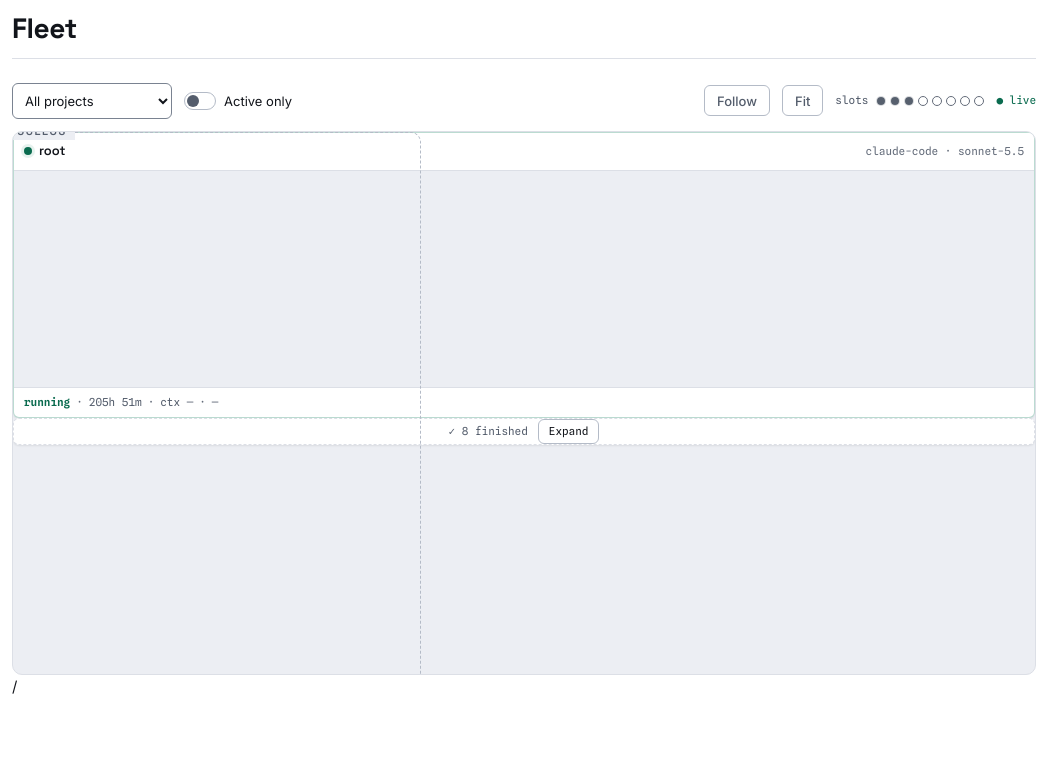
Test: Fleet › folds more than six done children into a group that expands
The width and height of the screenshot is (1048, 780).
Expected: the text "✓ 8 finished" is shown, x1=449 y1=423 x2=528 y2=440
Expected: the element "job 0" is not shown
Click the button with aria-label "Expand the finished nodes under root" at (569, 431), box x1=538 y1=419 x2=599 y2=444
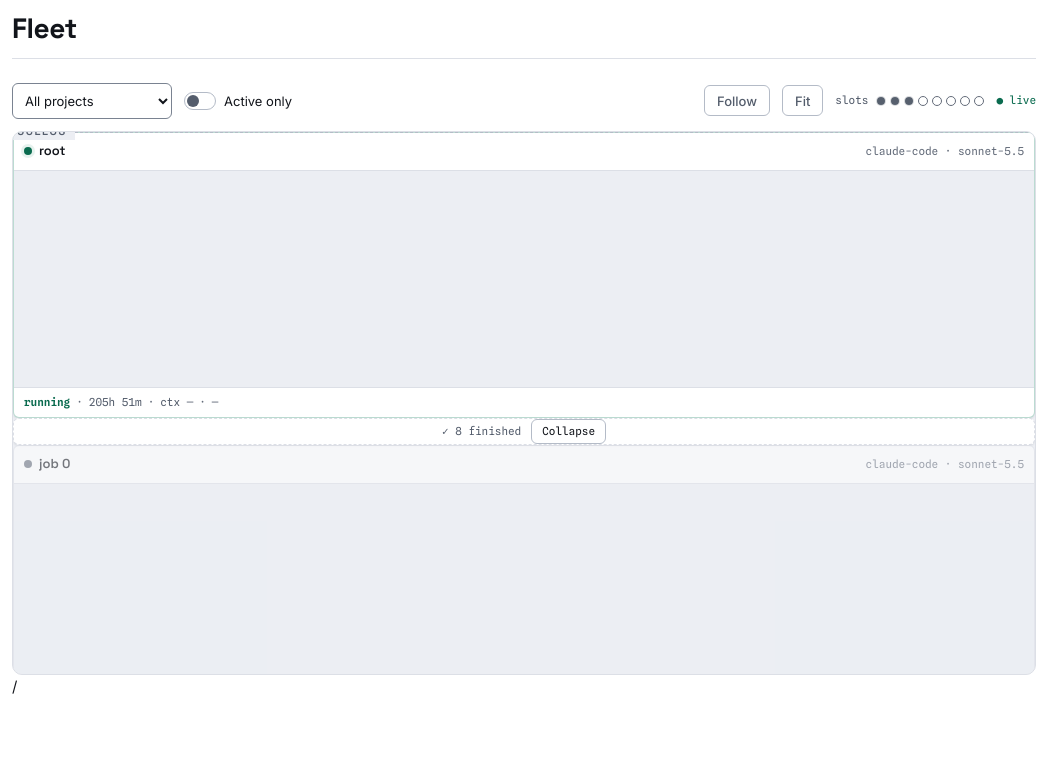
Now the element "job 0 claude-code · sonnet-5.5 done · 1m 00s · ctx — · —" is shown, box x1=13 y1=445 x2=1035 y2=675
Click the button with aria-label "Collapse the finished nodes under root" at (569, 431), box x1=531 y1=419 x2=606 y2=444
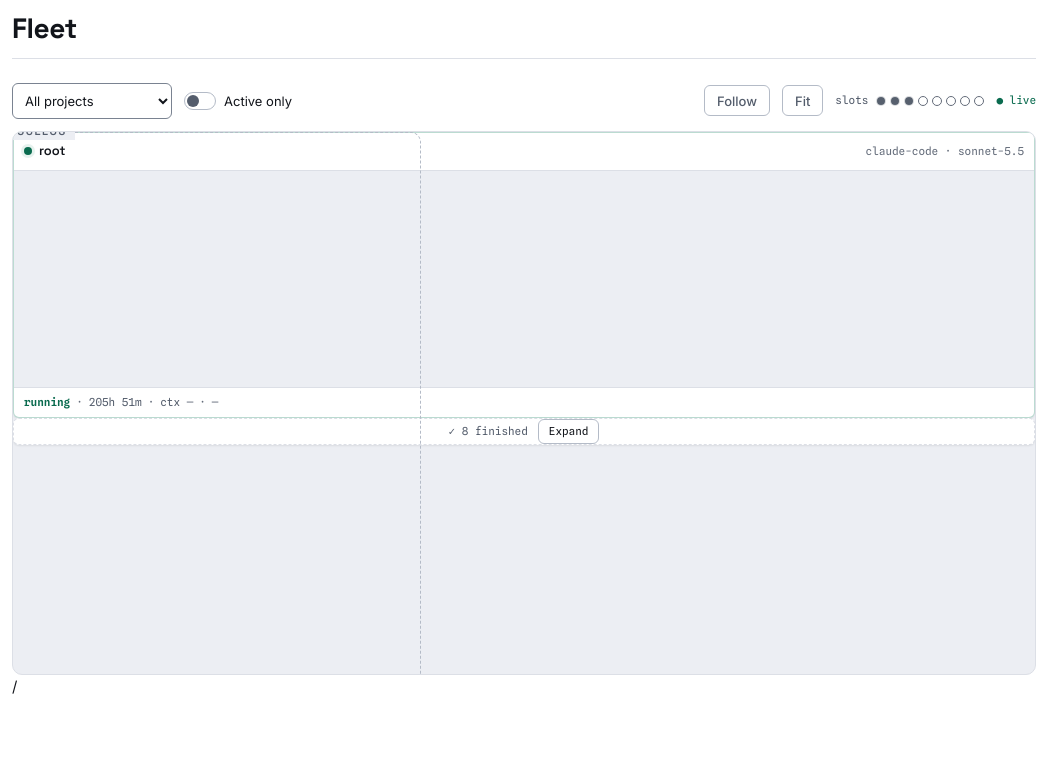
Now the text "job 0" is gone
